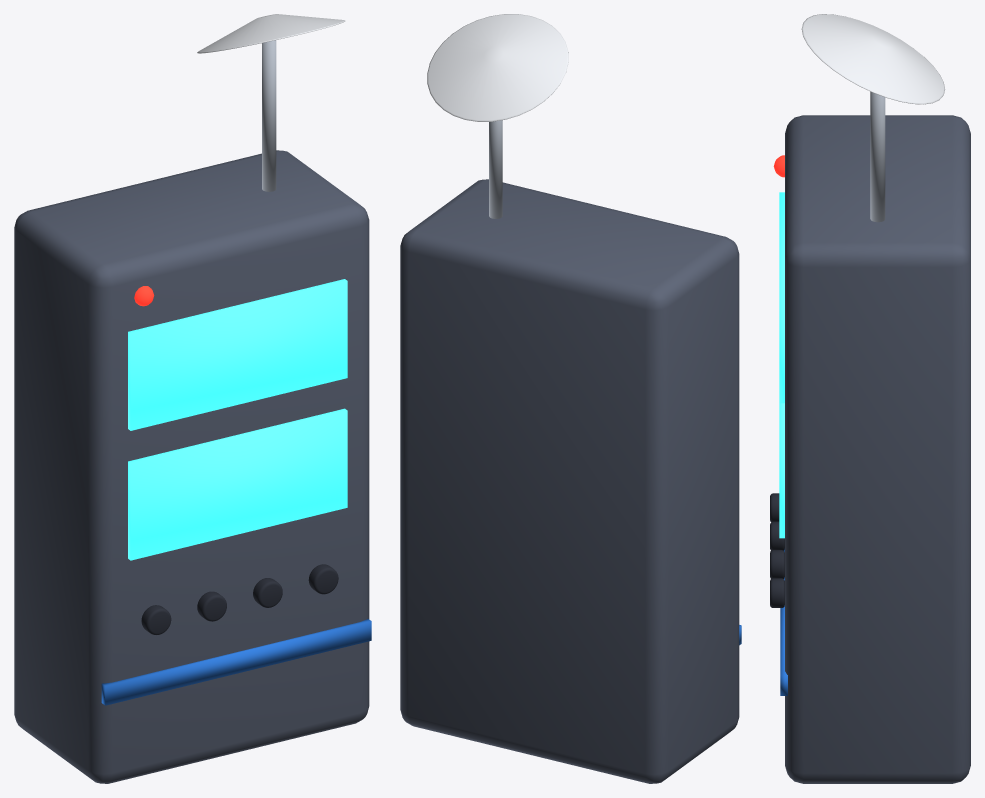
Rendered from Station_Comms.glb.
3 renders of one model, left to right at view 1: azimuth 30°, elevation 25°; view 2: azimuth 150°, elevation 25°; view 3: azimuth 270°, elevation 25°, orthographic. The views are drawn at different scales.
Visible parts, largest first — view 1: Station_Comms.Rack, Station_Comms.Screen0, Station_Comms.Screen1, Station_Comms.Stripe, Station_Comms.Dish, Station_Comms.Mast, Station_Comms.Knob1, Station_Comms.Knob3, Station_Comms.Knob0, Station_Comms.Knob2; view 2: Station_Comms.Rack, Station_Comms.Dish, Station_Comms.Mast; view 3: Station_Comms.Rack, Station_Comms.Dish, Station_Comms.Mast, Station_Comms.Screen0, Station_Comms.Screen1, Station_Comms.Stripe, Station_Comms.Knob3, Station_Comms.Knob2.
Part boxes in pixels (box(x1,y1,x2,y2)): Station_Comms.Rack: box(14, 150, 369, 783); Station_Comms.Screen0: box(128, 279, 347, 430); Station_Comms.Screen1: box(128, 408, 347, 560); Station_Comms.Stripe: box(101, 619, 371, 705); Station_Comms.Dish: box(197, 14, 345, 53); Station_Comms.Mast: box(262, 40, 276, 191); Station_Comms.Knob1: box(197, 591, 226, 621); Station_Comms.Knob3: box(308, 564, 338, 594); Station_Comms.Knob0: box(141, 605, 171, 634); Station_Comms.Knob2: box(253, 578, 282, 607); Station_Comms.Rack: box(400, 179, 739, 783); Station_Comms.Dish: box(427, 14, 568, 121); Station_Comms.Mast: box(489, 120, 502, 218); Station_Comms.Rack: box(785, 115, 970, 783); Station_Comms.Dish: box(801, 14, 945, 104); Station_Comms.Mast: box(870, 91, 885, 222); Station_Comms.Screen0: box(779, 192, 784, 403); Station_Comms.Screen1: box(779, 403, 784, 538); Station_Comms.Stripe: box(780, 549, 787, 695); Station_Comms.Knob3: box(770, 578, 784, 607); Station_Comms.Knob2: box(770, 550, 784, 578).
Bounding box in the file's own units: 0.9126 × 2.16 × 0.54.
